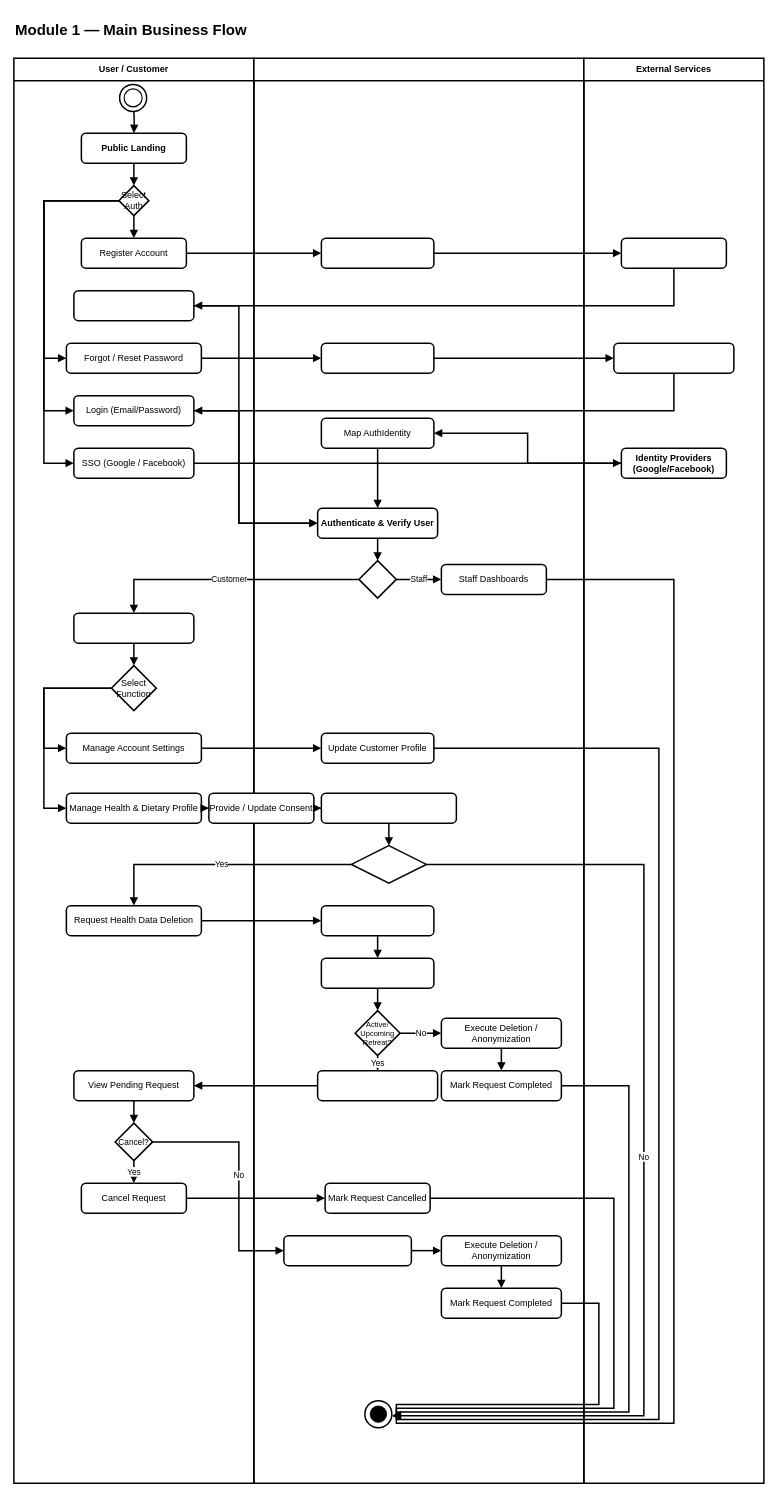
This 777x1496 diagram has some shape labels left out. Each missing label, with the box of its shape:
Check Retention Eligibility: (320, 957, 434, 988)
Create Deletion Request: (320, 904, 434, 936)
Customer Dashboard: (73, 612, 194, 644)
Email / Notification Service: (613, 342, 734, 374)
Email OTP Verification: (73, 290, 194, 321)
Email Service: (620, 237, 727, 268)
Initiate Email Verification: (320, 237, 434, 268)
Initiate Password Reset: (320, 342, 434, 374)
Request Health Data Deletion?: (350, 844, 427, 884)
Role?: (358, 560, 397, 598)
Save Health, Dietary & Consent Data: (320, 792, 457, 824)
Set Status: Deferred / Pending: (316, 1070, 438, 1101)
System (HSWRMS): (253, 57, 584, 1484)
Wait: Retreat Completed / Retention Ends: (283, 1234, 412, 1266)
